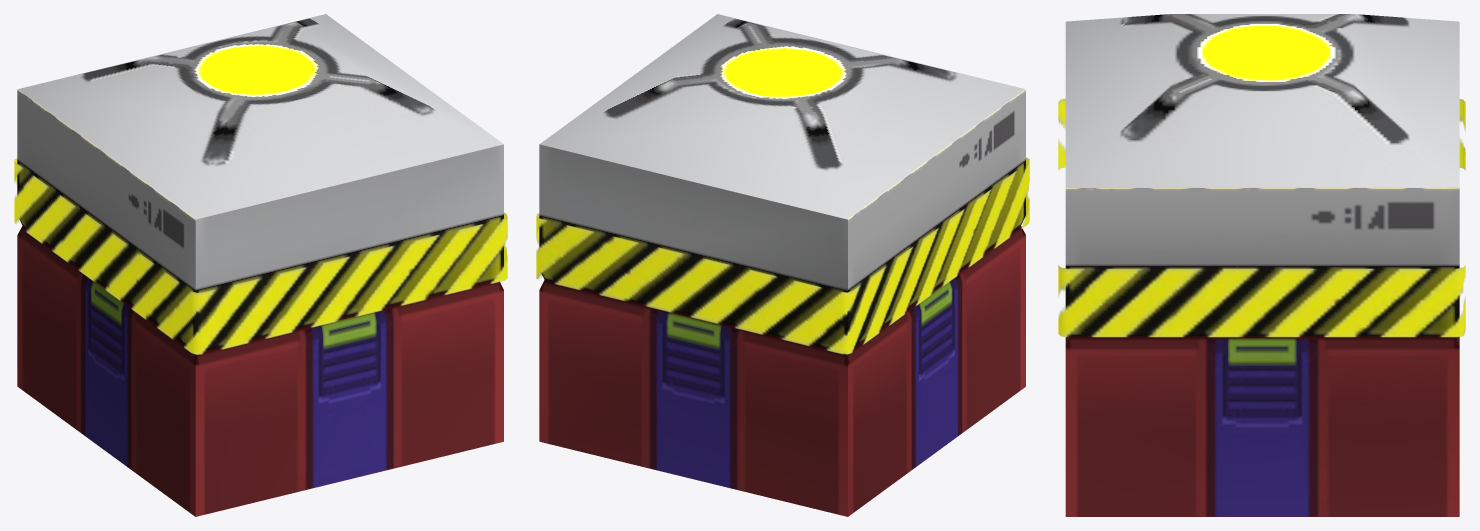
Rendered from LootBox3.glb.
3 views of the same model, side by side, from view 1: azimuth 30°, elevation 25°; view 2: azimuth 150°, elevation 25°; view 3: azimuth 270°, elevation 25° (orthographic). The views are drawn at different scales.
Visible parts, largest first — view 1: Plane.001; view 2: Plane.001; view 3: Plane.001.
Part boxes in pixels (<box>): Plane.001: <box>14,14,507,516</box>; Plane.001: <box>536,14,1029,516</box>; Plane.001: <box>1058,14,1465,516</box>.
Size of the model in its own units: 1.02 by 1.06 by 1.03.
2 materials, 2 textured.
